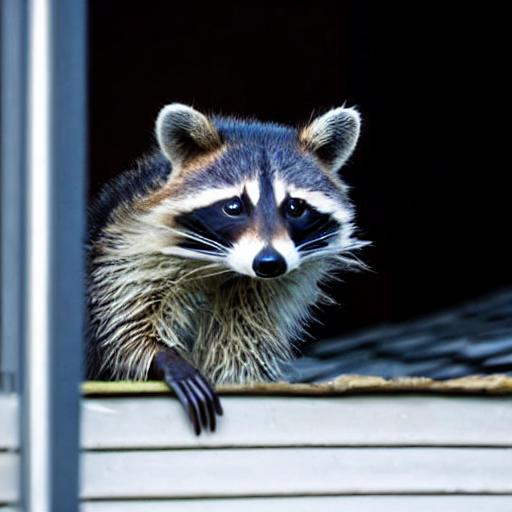raccoon: (87, 95, 378, 376)
